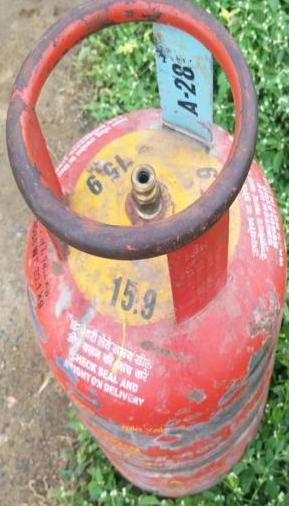cylinder: (1, 0, 289, 506)
